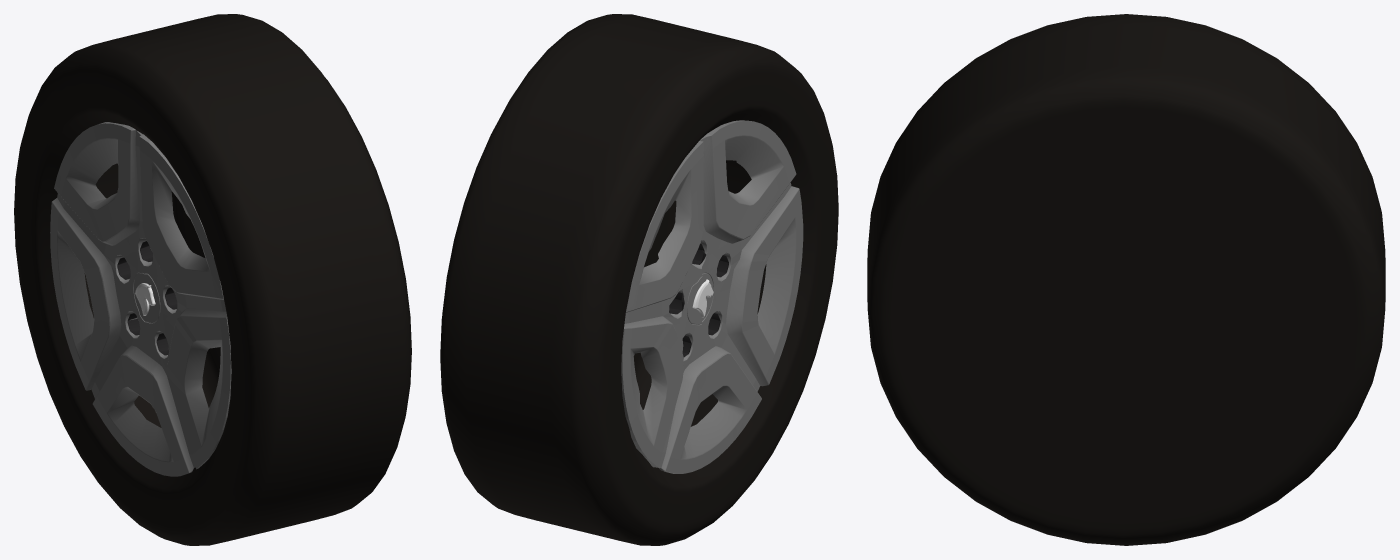
The model's file is veh_01_ikco_tara_wheel.glb.
The picture shows the model from 3 angles, left to right: view 1: azimuth 30°, elevation 25°; view 2: azimuth 150°, elevation 25°; view 3: azimuth 270°, elevation 25°; orthographic projection.
Visible parts, largest first — view 1: veh_01_ikco_tara_wheel_mesh; view 2: veh_01_ikco_tara_wheel_mesh; view 3: veh_01_ikco_tara_wheel_mesh.
Part boxes in pixels (x1,y1,x2,y2): veh_01_ikco_tara_wheel_mesh: (14,14,411,545); veh_01_ikco_tara_wheel_mesh: (440,14,838,545); veh_01_ikco_tara_wheel_mesh: (867,14,1385,545).
Bounding box in the file's own units: 0.2399 × 0.6728 × 0.6728.
3 materials, 2 textured.
